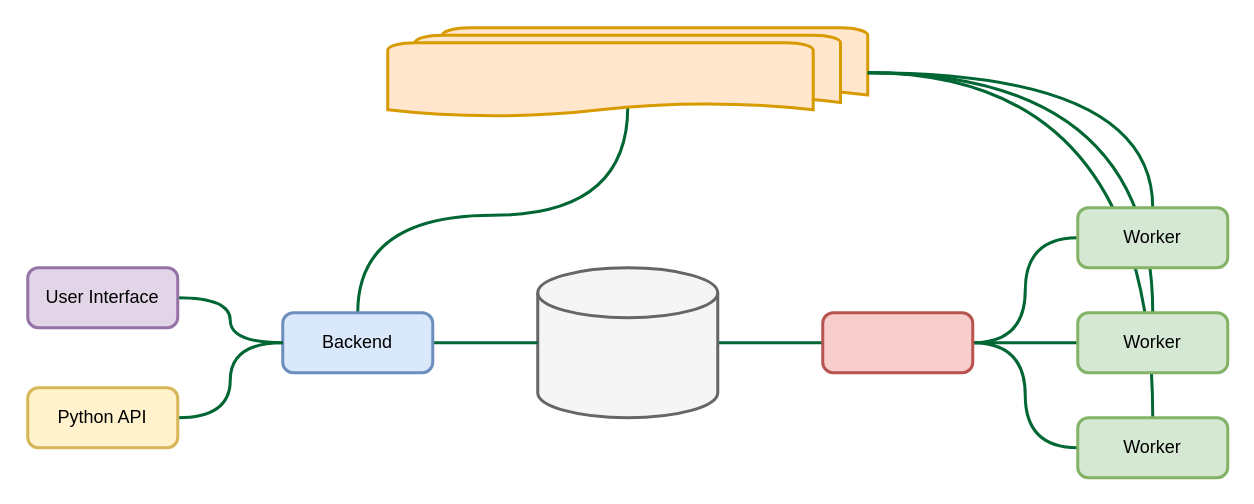
Some shapes in this 1254 by 504 pixel diagram are drawn without their labels. The shapes that lost their labels are listed below. From the top down, each one's centre as x and y in pixels, then its label:
point (627, 72): AWS S3 / Google Storage / Filesystem
point (627, 342): Database
point (897, 342): Master
